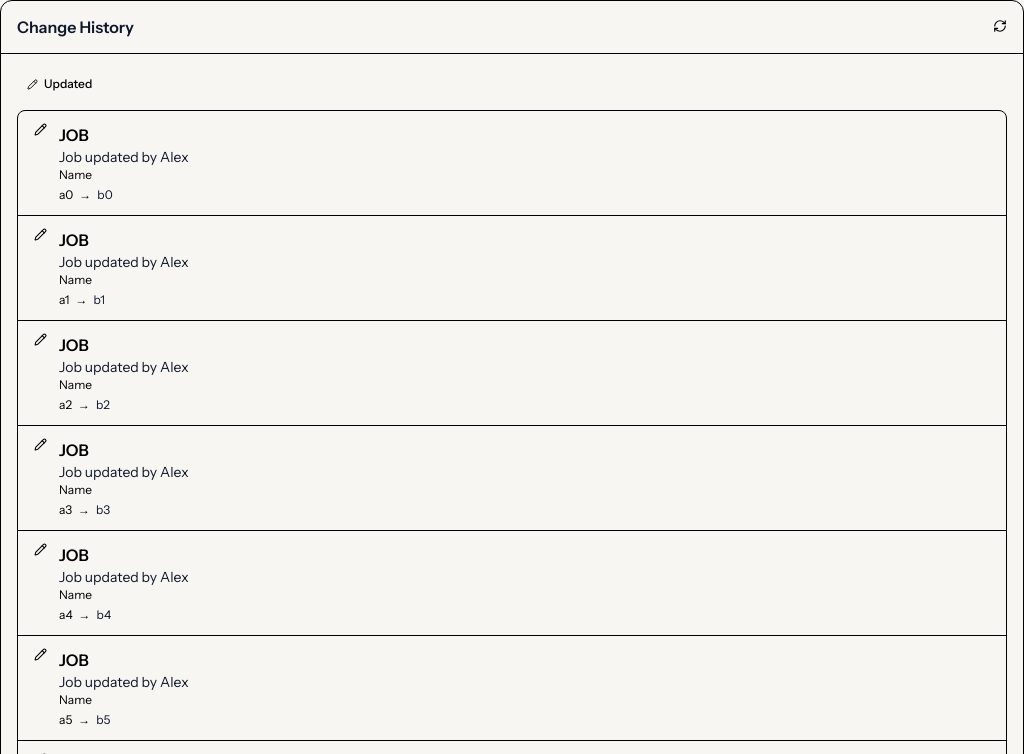
ChangeHistory — L3 verb filter vs Show more › keeps 'Show more' visible when the active chips match nothing on the loaded page but hasMore
Click the button "Updated".
click(60, 84)  # box left=17, top=70, right=102, bottom=98
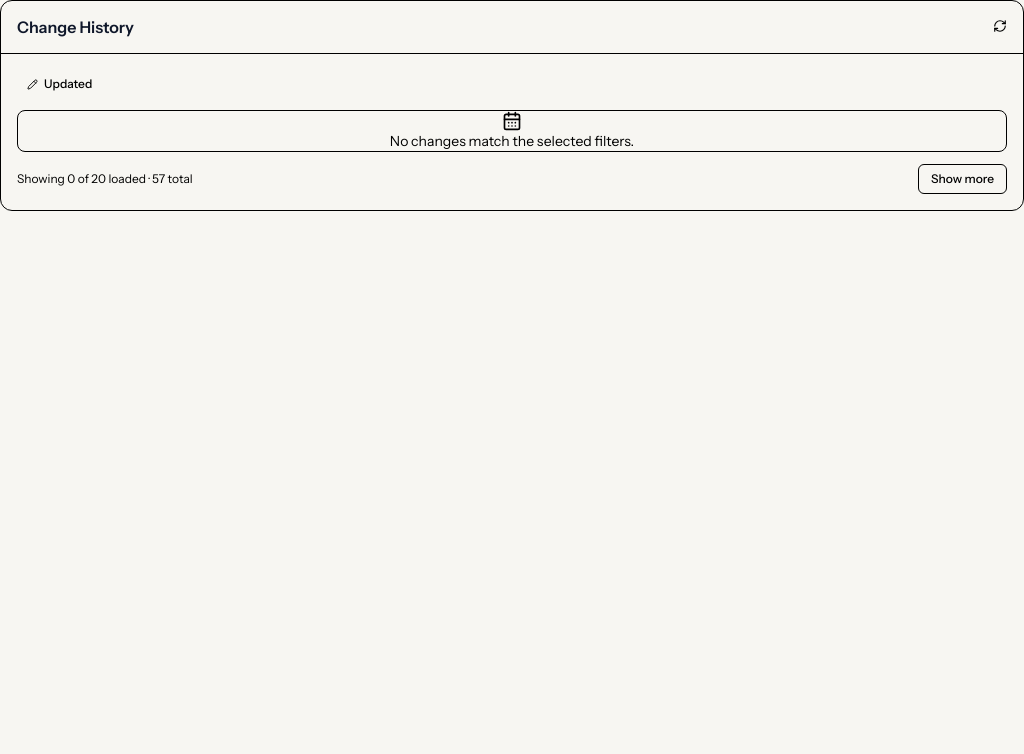
Expected: the button "Show more" is shown, left=918, top=164, right=1007, bottom=194
Now the text "No changes match the selected filters." is shown, box left=390, top=131, right=634, bottom=151
Now the text "Showing 0 of 20 loaded · 57 total" is shown, box left=17, top=171, right=193, bottom=187
